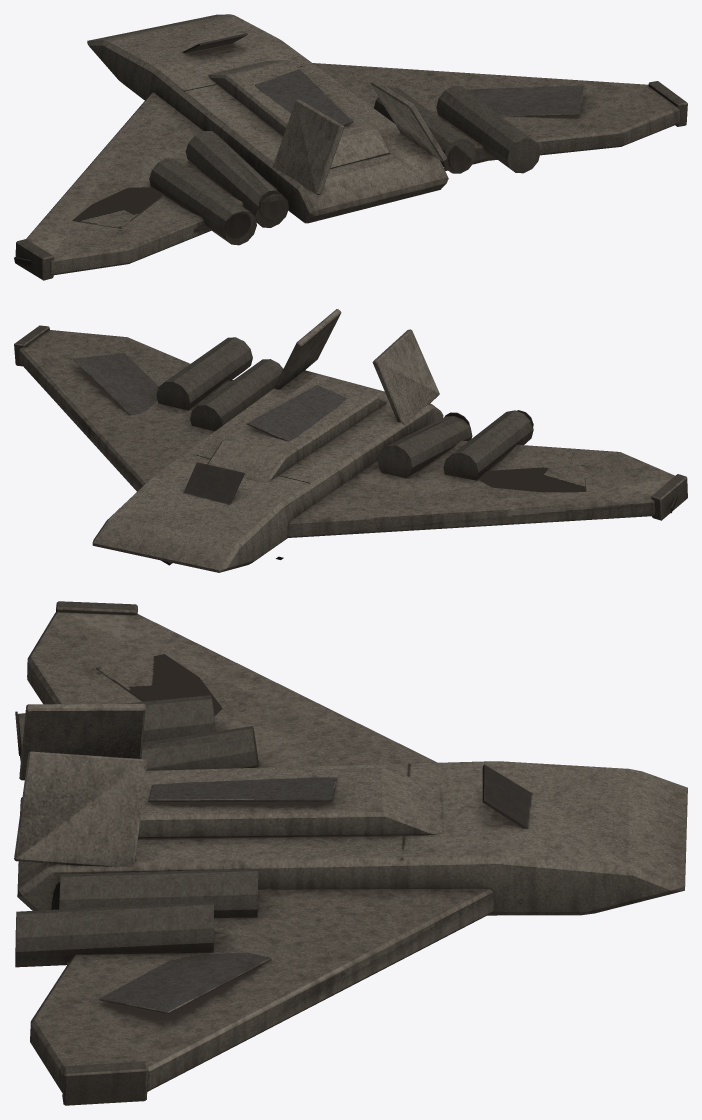
Rendered from ord_liche_wreck.fbx.
3 views of the same model, one above another, from view 1: azimuth 30°, elevation 25°; view 2: azimuth 150°, elevation 25°; view 3: azimuth 270°, elevation 25° (orthographic). The views are drawn at different scales.
Visible parts, largest first — view 1: base_bar; view 2: base_bar; view 3: base_bar.
Part boxes in pixels (box(x1,y1,x2,y2)): base_bar: box(14, 14, 687, 280); base_bar: box(14, 309, 687, 572); base_bar: box(14, 601, 687, 1105).
Bounding box in the file's own units: 2400 × 602 × 1445.
Materials: 2 (2 with a texture image).
